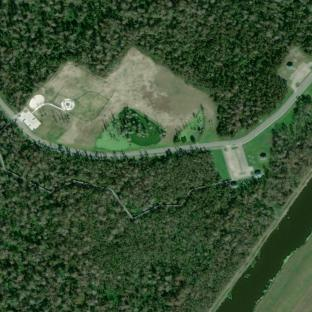Floresta: (0, 96, 312, 312), (0, 0, 312, 136), (0, 124, 220, 216)
